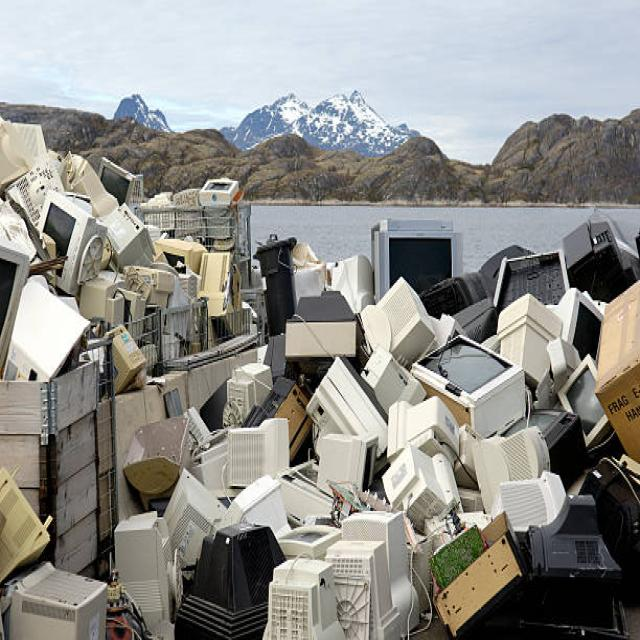cardboard: (426, 520, 524, 620), (594, 283, 640, 439)
metal: (6, 206, 584, 514), (27, 533, 313, 634)
